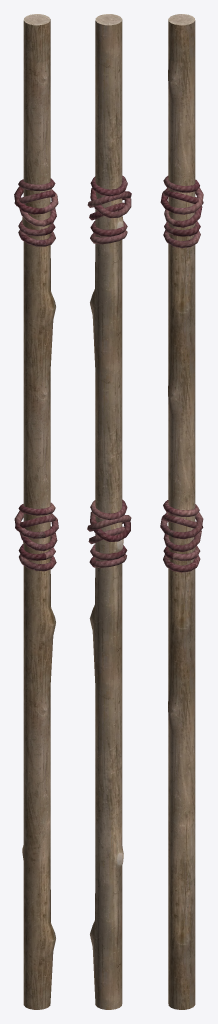
3 renders of one model, left to right at view 1: azimuth 30°, elevation 25°; view 2: azimuth 210°, elevation 25°; view 3: azimuth 330°, elevation 25°, orthographic.
Parts seen in each view (by area): view 1: SM_Garou_Set_SM_VerticalLog_04_1x12_LOD0; view 2: SM_Garou_Set_SM_VerticalLog_04_1x12_LOD0; view 3: SM_Garou_Set_SM_VerticalLog_04_1x12_LOD0.
Part boxes in pixels (x1,y1,x2,y2): SM_Garou_Set_SM_VerticalLog_04_1x12_LOD0: [14, 14, 58, 1009]; SM_Garou_Set_SM_VerticalLog_04_1x12_LOD0: [87, 14, 131, 1009]; SM_Garou_Set_SM_VerticalLog_04_1x12_LOD0: [160, 14, 203, 1009].
Size of the model in its own units: 0.5437 by 12.47 by 0.4561.
Materials: 1 (1 with a texture image).
